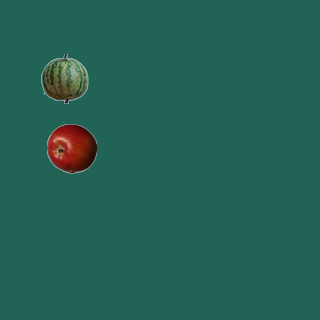Apple Braeburn: (46, 123, 96, 173)
Watermelon: (39, 53, 89, 103)
